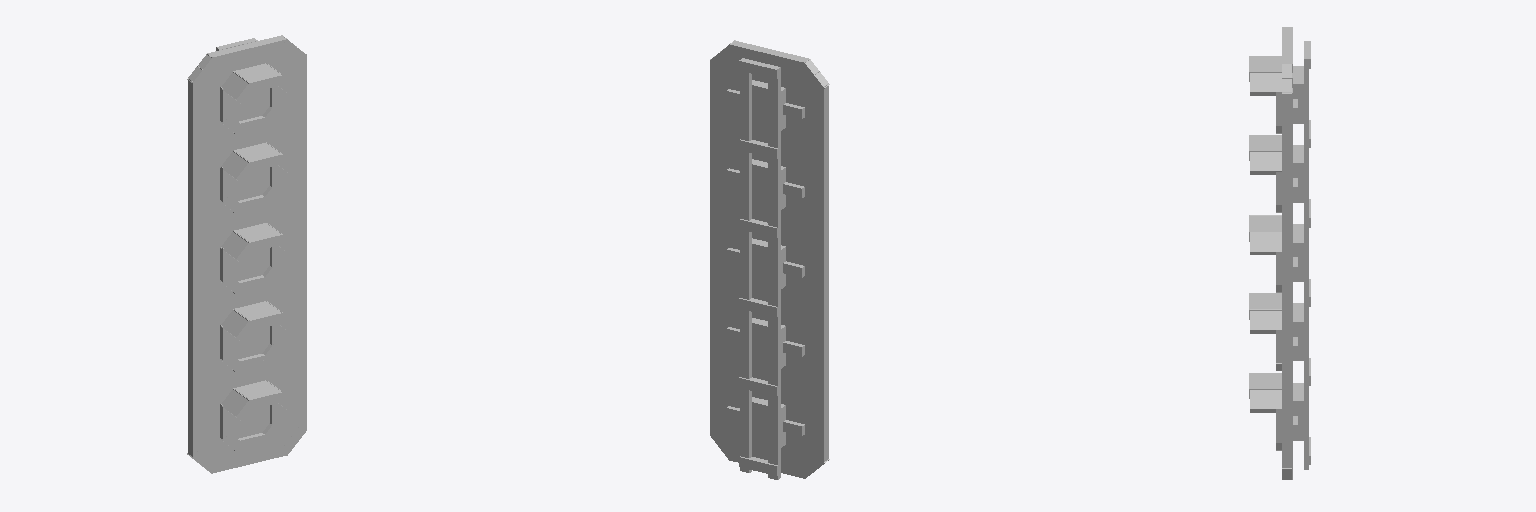
The model's file is sw_5l_signal_post_1970.obj.
3 renders of one model, left to right at view 1: azimuth 30°, elevation 25°; view 2: azimuth 150°, elevation 25°; view 3: azimuth 270°, elevation 25°, orthographic.
Parts seen in each view (by area): view 1: cube; view 2: cube; view 3: cube.
Part boxes in pixels (x1,y1,x2,y2): cube: (187,35,306,473); cube: (710,40,829,479); cube: (1249,27,1310,479).
Size of the model in its own units: 0.8294 by 2.63 by 0.3562.